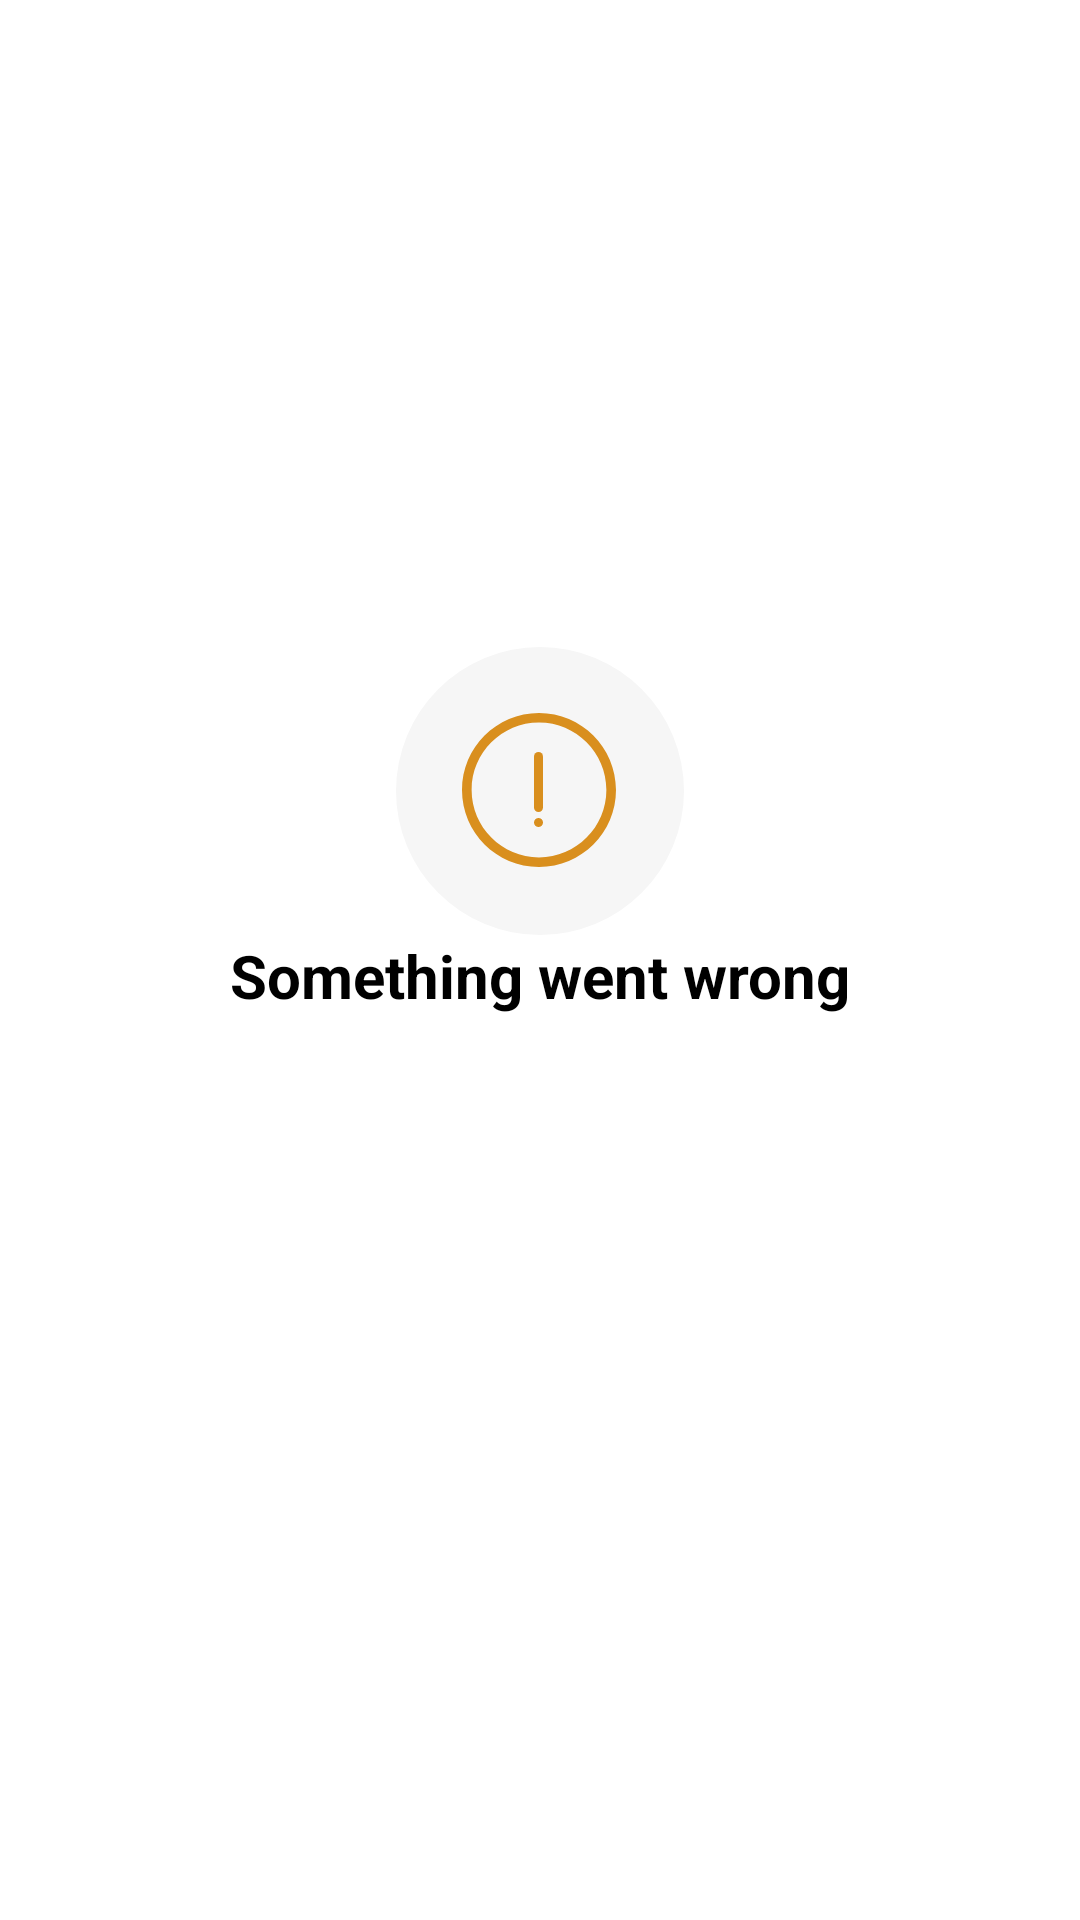

Where to tap for icons on this 1080×1920 app screen, as [x,y]:
warning: [540,791]
